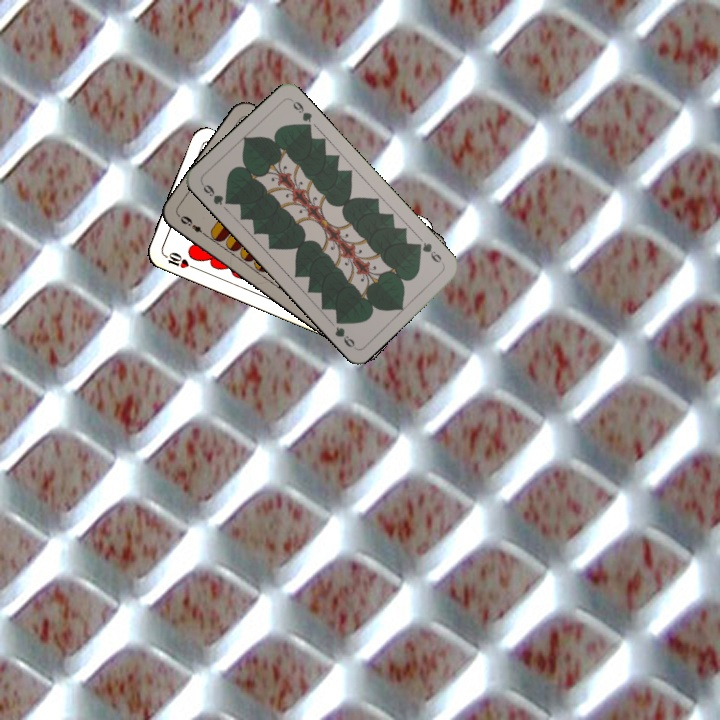E9: (176, 211, 210, 240)
G9: (198, 179, 234, 208), (411, 238, 446, 267)
H10: (159, 248, 198, 272)
